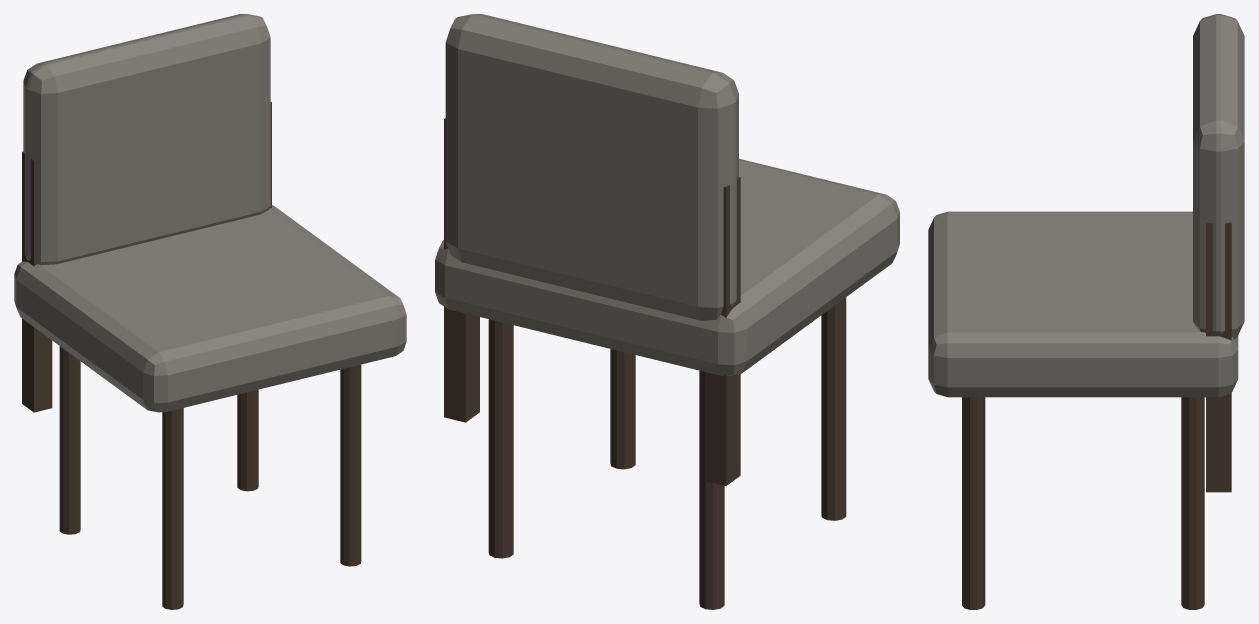
3 renders of one model, left to right at view 1: azimuth 30°, elevation 25°; view 2: azimuth 150°, elevation 25°; view 3: azimuth 270°, elevation 25°, orthographic. The views are drawn at different scales.
Visible parts, largest first — view 1: dining-chair; view 2: dining-chair; view 3: dining-chair.
Boxes of the visible parts, x1,y1,x2,y2 form: dining-chair: (14, 14, 406, 609); dining-chair: (435, 14, 899, 609); dining-chair: (928, 14, 1244, 609).
Size of the model in its own units: 0.5 by 0.84 by 0.49.
